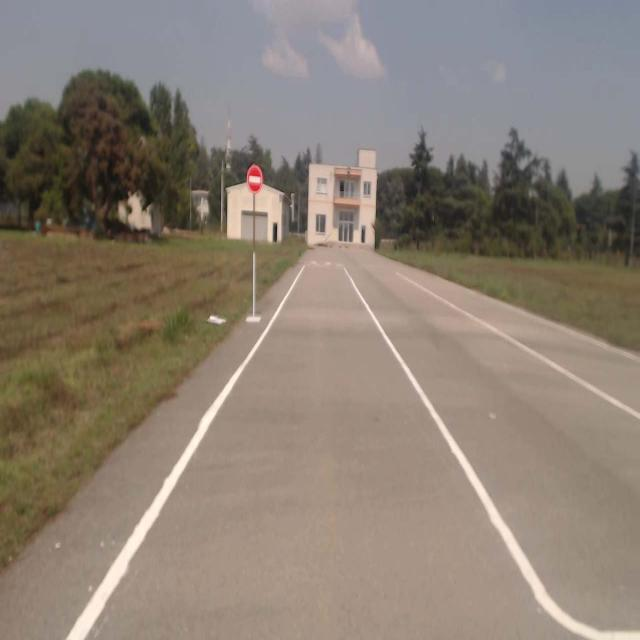girisyok: (248, 161, 262, 196)
